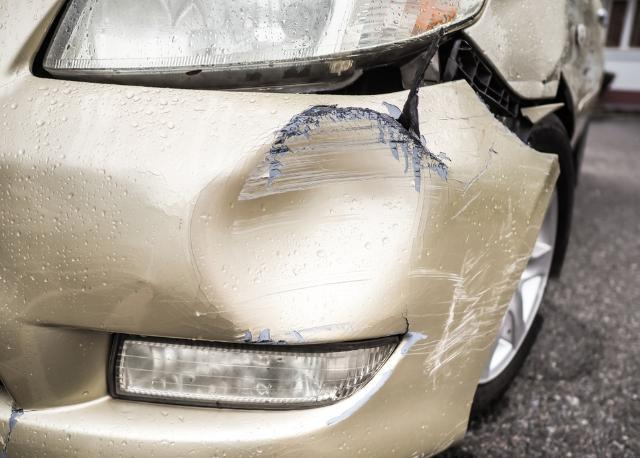Bumper: (173, 79, 529, 385)
Fender: (488, 5, 565, 91)
